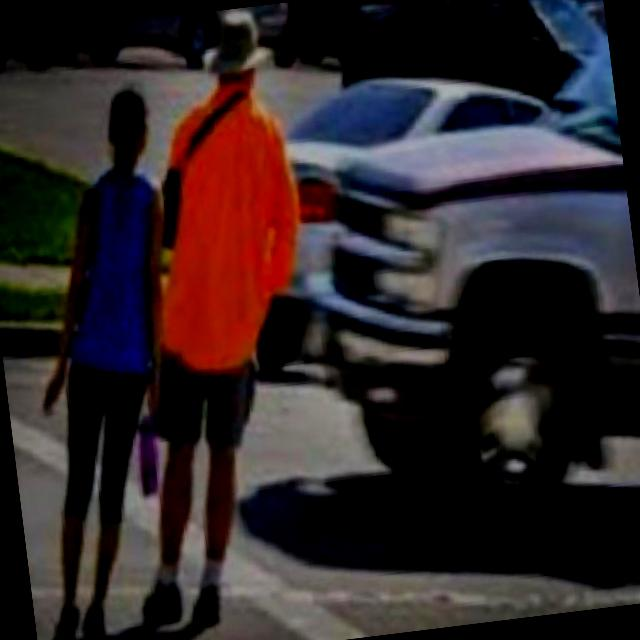Person: (69, 4, 352, 638), (0, 86, 223, 640)
